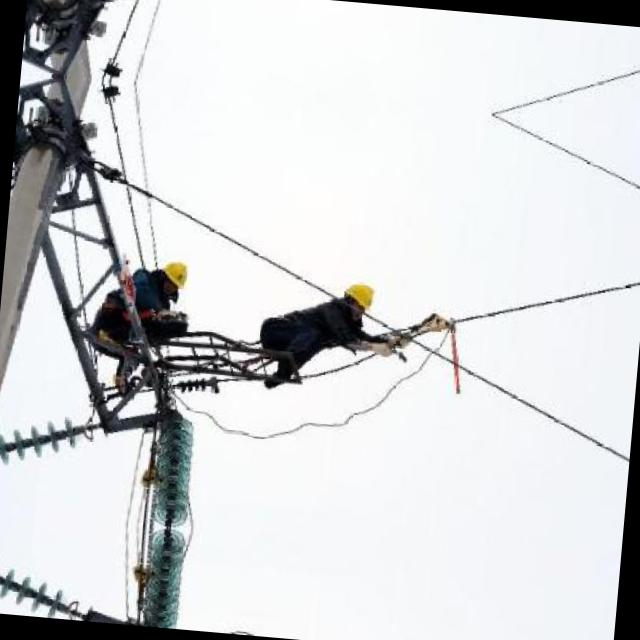helmet: (148, 250, 190, 292), (340, 275, 380, 317)
